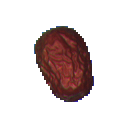gd: (20, 16, 104, 116)
